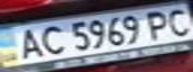5: (66, 18, 90, 52)
6: (103, 14, 127, 47)
9: (121, 12, 148, 44), (87, 17, 109, 50)
A: (6, 26, 48, 61)
C: (33, 22, 69, 56), (160, 4, 193, 37)
P: (139, 8, 178, 39)
